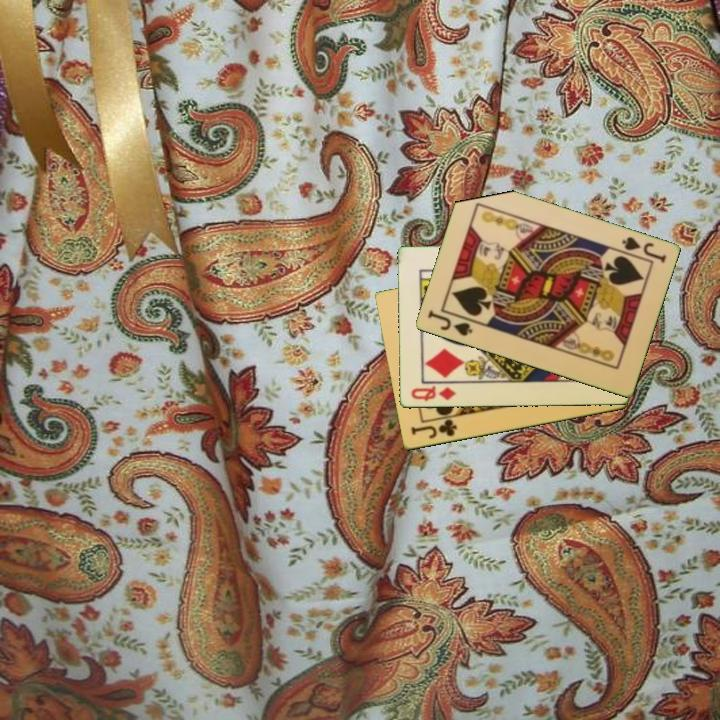Jc: (407, 416, 460, 442)
Js: (614, 233, 669, 266), (424, 306, 475, 339)
Qd: (407, 382, 459, 405)
